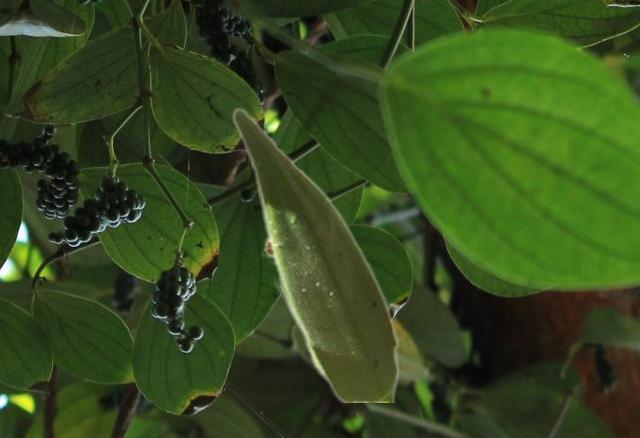okra: (231, 106, 397, 401)
